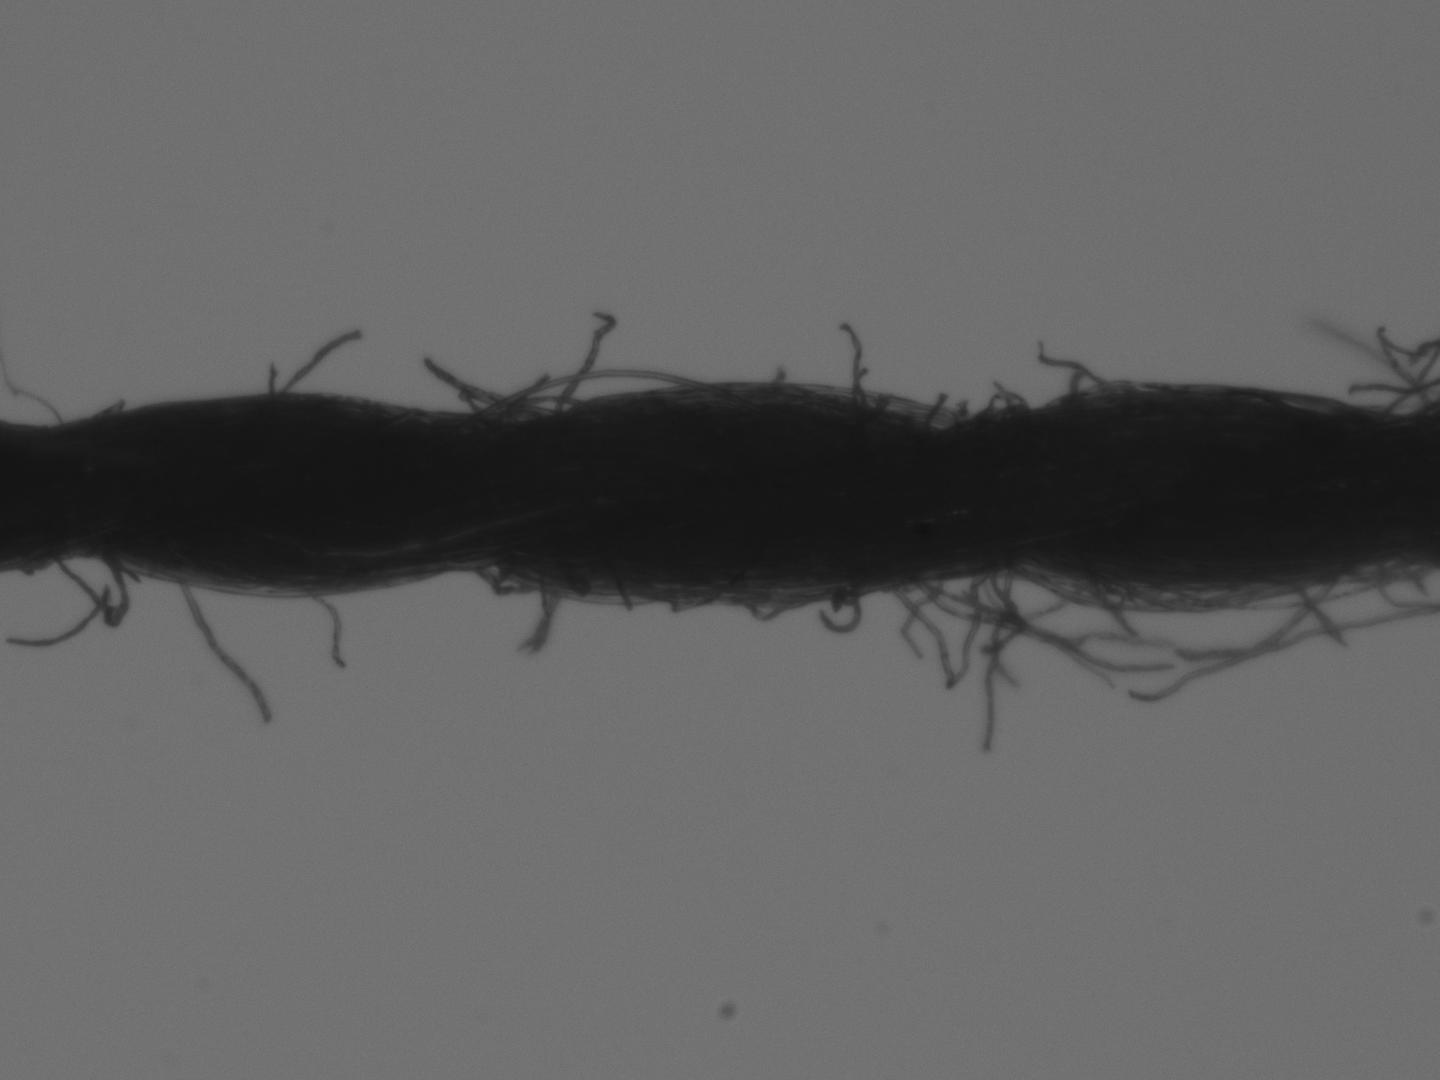loop_fiber: (418, 351, 746, 431), (882, 565, 1003, 697), (1022, 564, 1296, 609), (44, 549, 138, 636), (1373, 318, 1439, 417), (708, 584, 833, 625), (952, 385, 1040, 433), (464, 560, 553, 600)
protruding_fiber: (171, 566, 281, 722), (276, 324, 363, 397)
